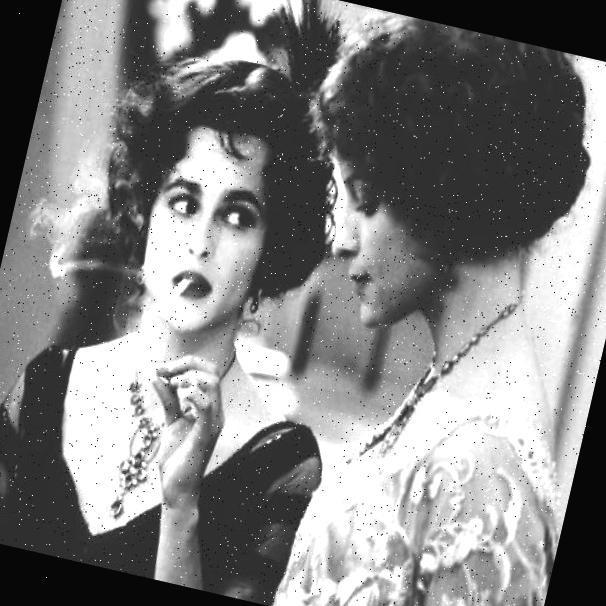smoke: (15, 154, 118, 285)
